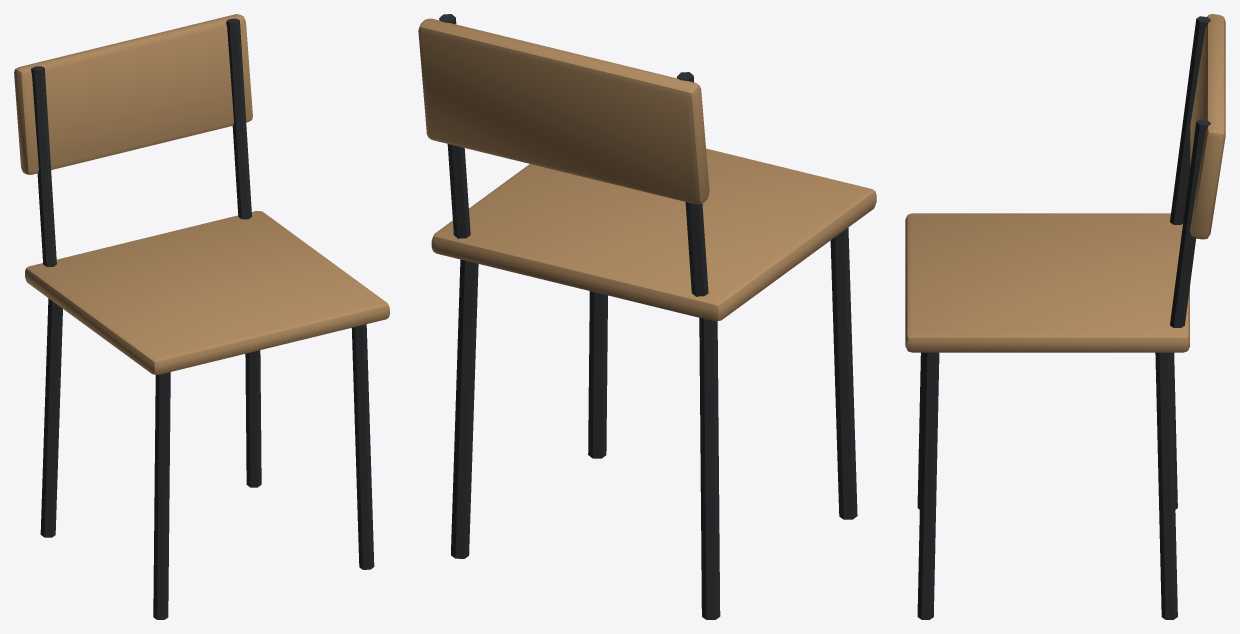
Rendered from vantage_cafe_chair.glb.
3 views of the same model, side by side, from view 1: azimuth 30°, elevation 25°; view 2: azimuth 150°, elevation 25°; view 3: azimuth 270°, elevation 25° (orthographic). The views are drawn at different scales.
Visible parts, largest first — view 1: vantage_cafe_chair; view 2: vantage_cafe_chair; view 3: vantage_cafe_chair.
Part boxes in pixels (x1=…): vantage_cafe_chair: x1=14, y1=14, x2=389, y2=619; vantage_cafe_chair: x1=418, y1=14, x2=876, y2=619; vantage_cafe_chair: x1=905, y1=14, x2=1225, y2=619.
Bounding box in the file's own units: 0.44 × 0.8016 × 0.4723.
